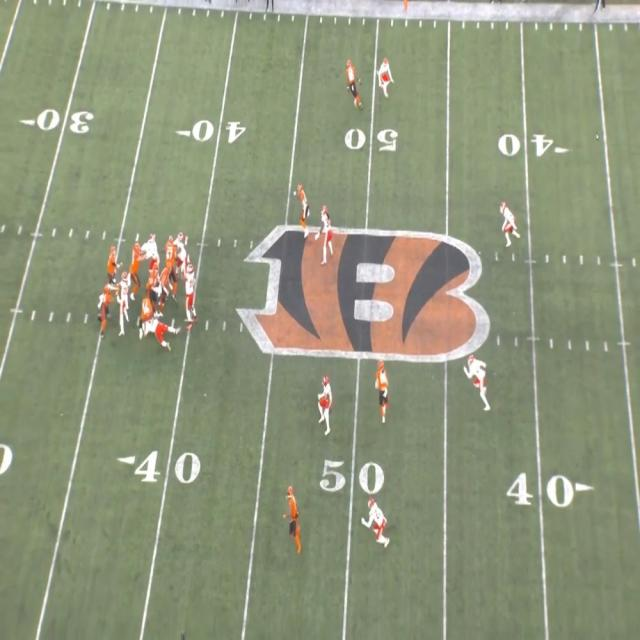db: (468, 354, 487, 405), (369, 501, 390, 547), (499, 201, 517, 245), (119, 271, 128, 333), (380, 58, 394, 96)
lb: (320, 204, 335, 262), (320, 376, 334, 434)
qb: (106, 244, 118, 284)
skill: (375, 357, 389, 418), (97, 285, 111, 336), (285, 484, 297, 532), (346, 60, 360, 101), (296, 182, 306, 223)
